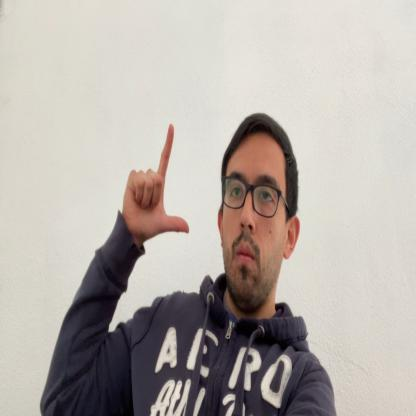L: (122, 123, 189, 236)
